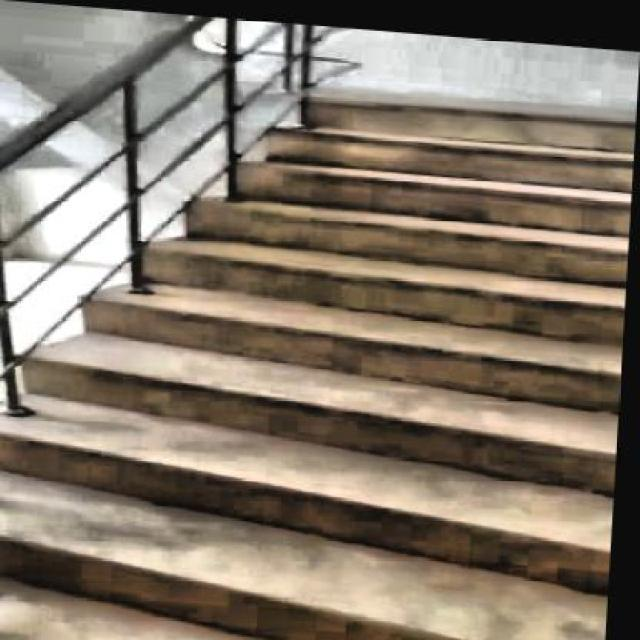stair: (0, 64, 637, 638)
